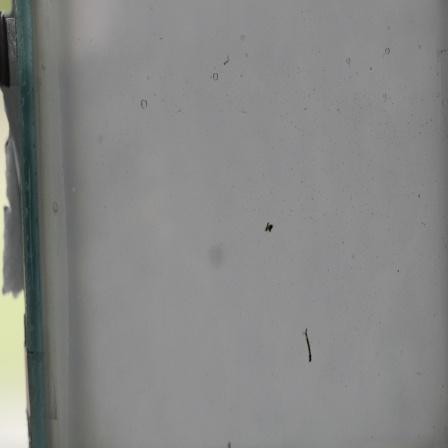Jentik-Nyamuk: (301, 325, 314, 365), (262, 219, 275, 235)
